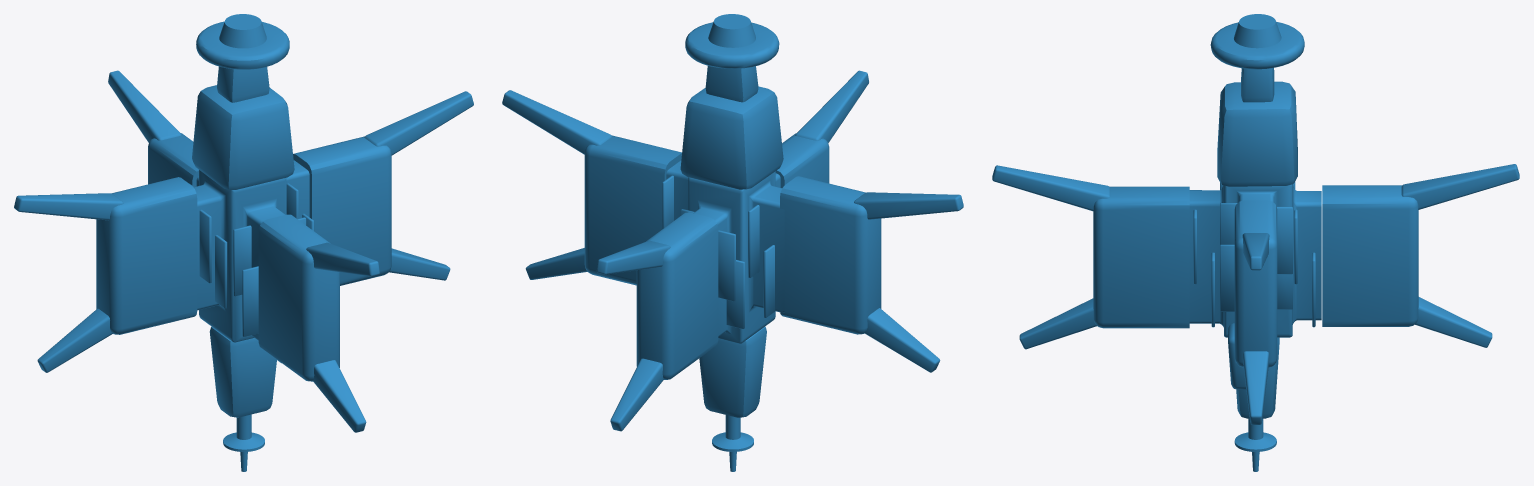
File: Zaldi_Terminal_model.fbx
The picture shows the model from 3 angles, left to right: view 1: azimuth 30°, elevation 25°; view 2: azimuth 150°, elevation 25°; view 3: azimuth 270°, elevation 25°; orthographic projection.
Visible parts, largest first — view 1: Zaldi_Terminal_model; view 2: Zaldi_Terminal_model; view 3: Zaldi_Terminal_model.
Part boxes in pixels (box(x1,y1,x2,y2)): Zaldi_Terminal_model: box(14, 14, 473, 471); Zaldi_Terminal_model: box(502, 14, 963, 471); Zaldi_Terminal_model: box(992, 14, 1519, 471).
Bounding box in the file's own units: 328 × 308 × 328.
